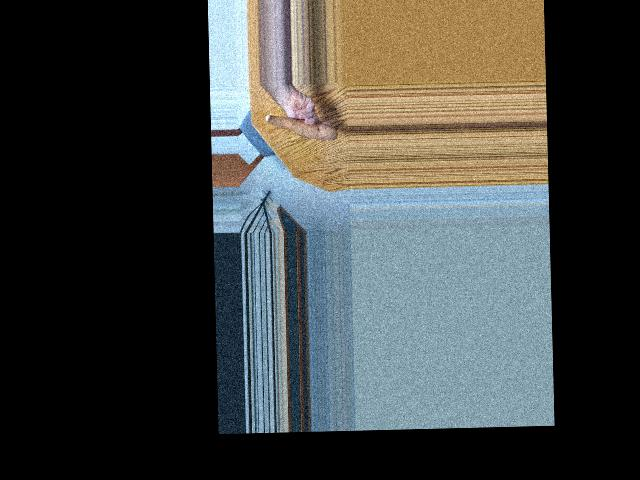sweet_potato: (264, 109, 336, 144)
